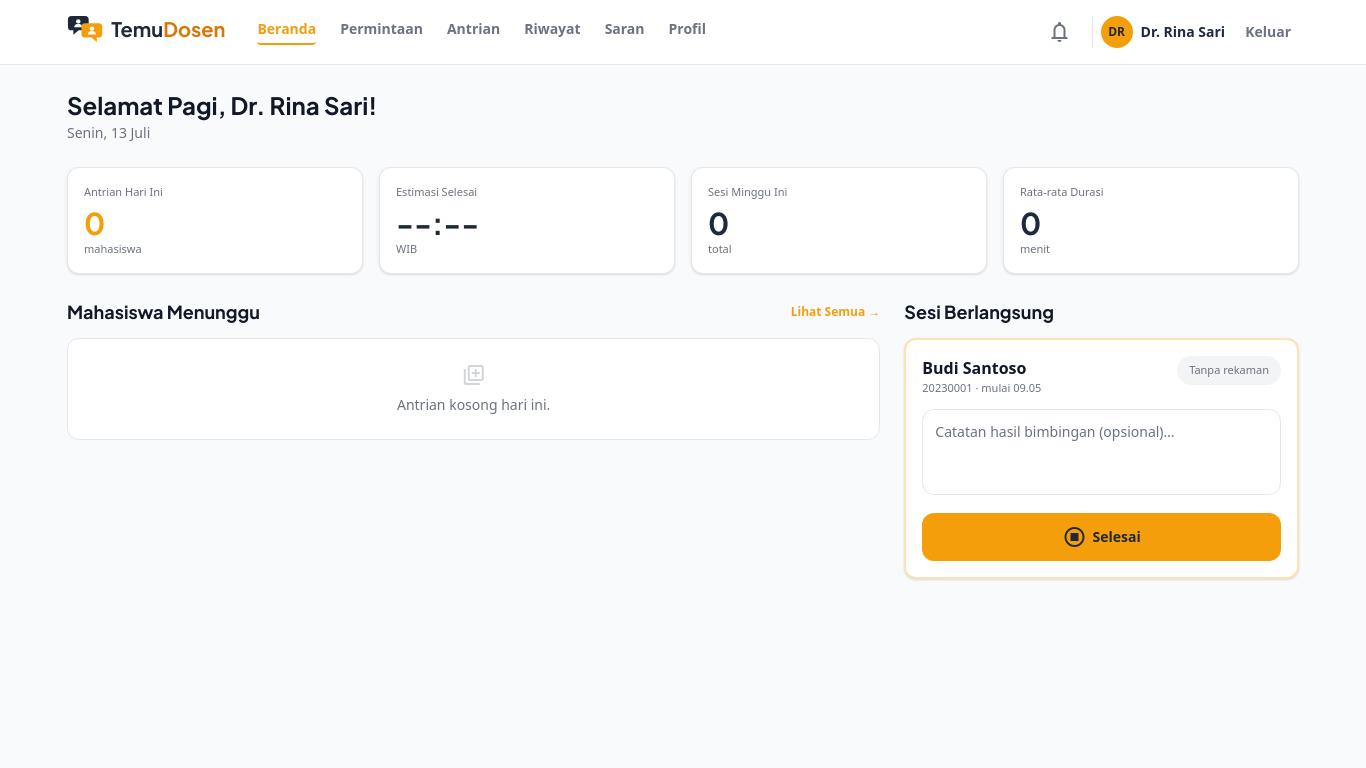
Test case: LecturerDashboard — Sesi Berlangsung (SESSION-04) › pressing Selesai posts to /complete/ and reports success
This screenshot has width=1366, height=768.
In the text box with placeholder "Catatan hasil bimbingan (opsional)…": [1102, 452] box [922, 408, 1281, 494], type "Lanjut bab 4."
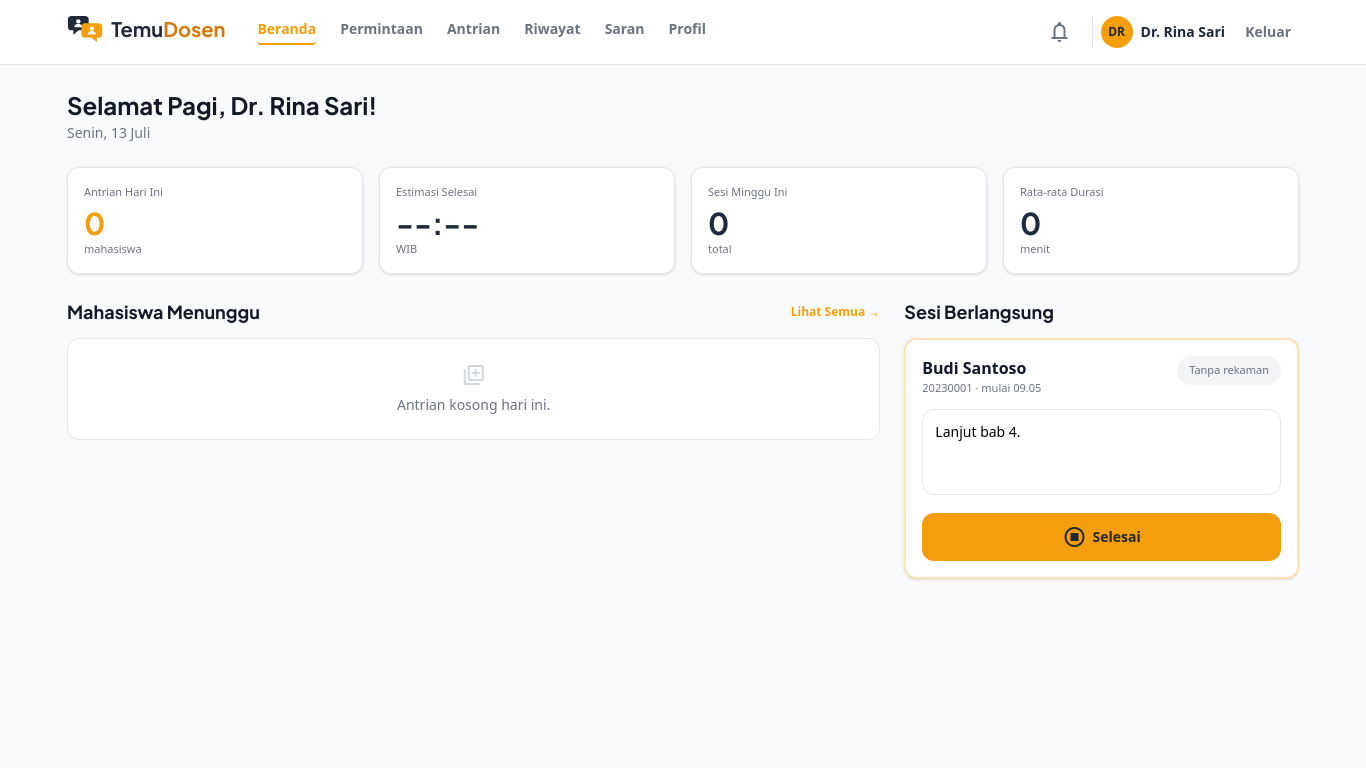
Click the button "Selesai": [1102, 536] box [922, 512, 1281, 560]
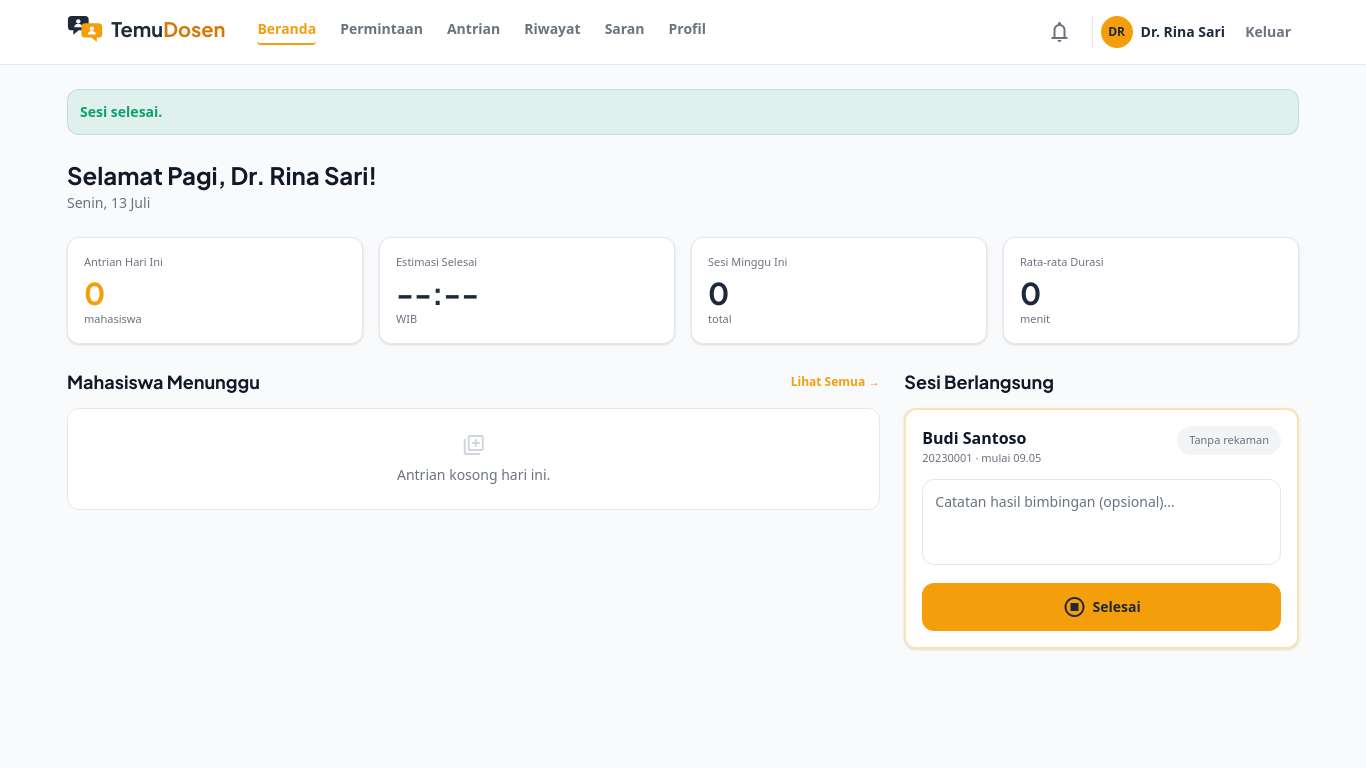
Result: the text "Sesi selesai." is shown at [67, 89, 1299, 135]
